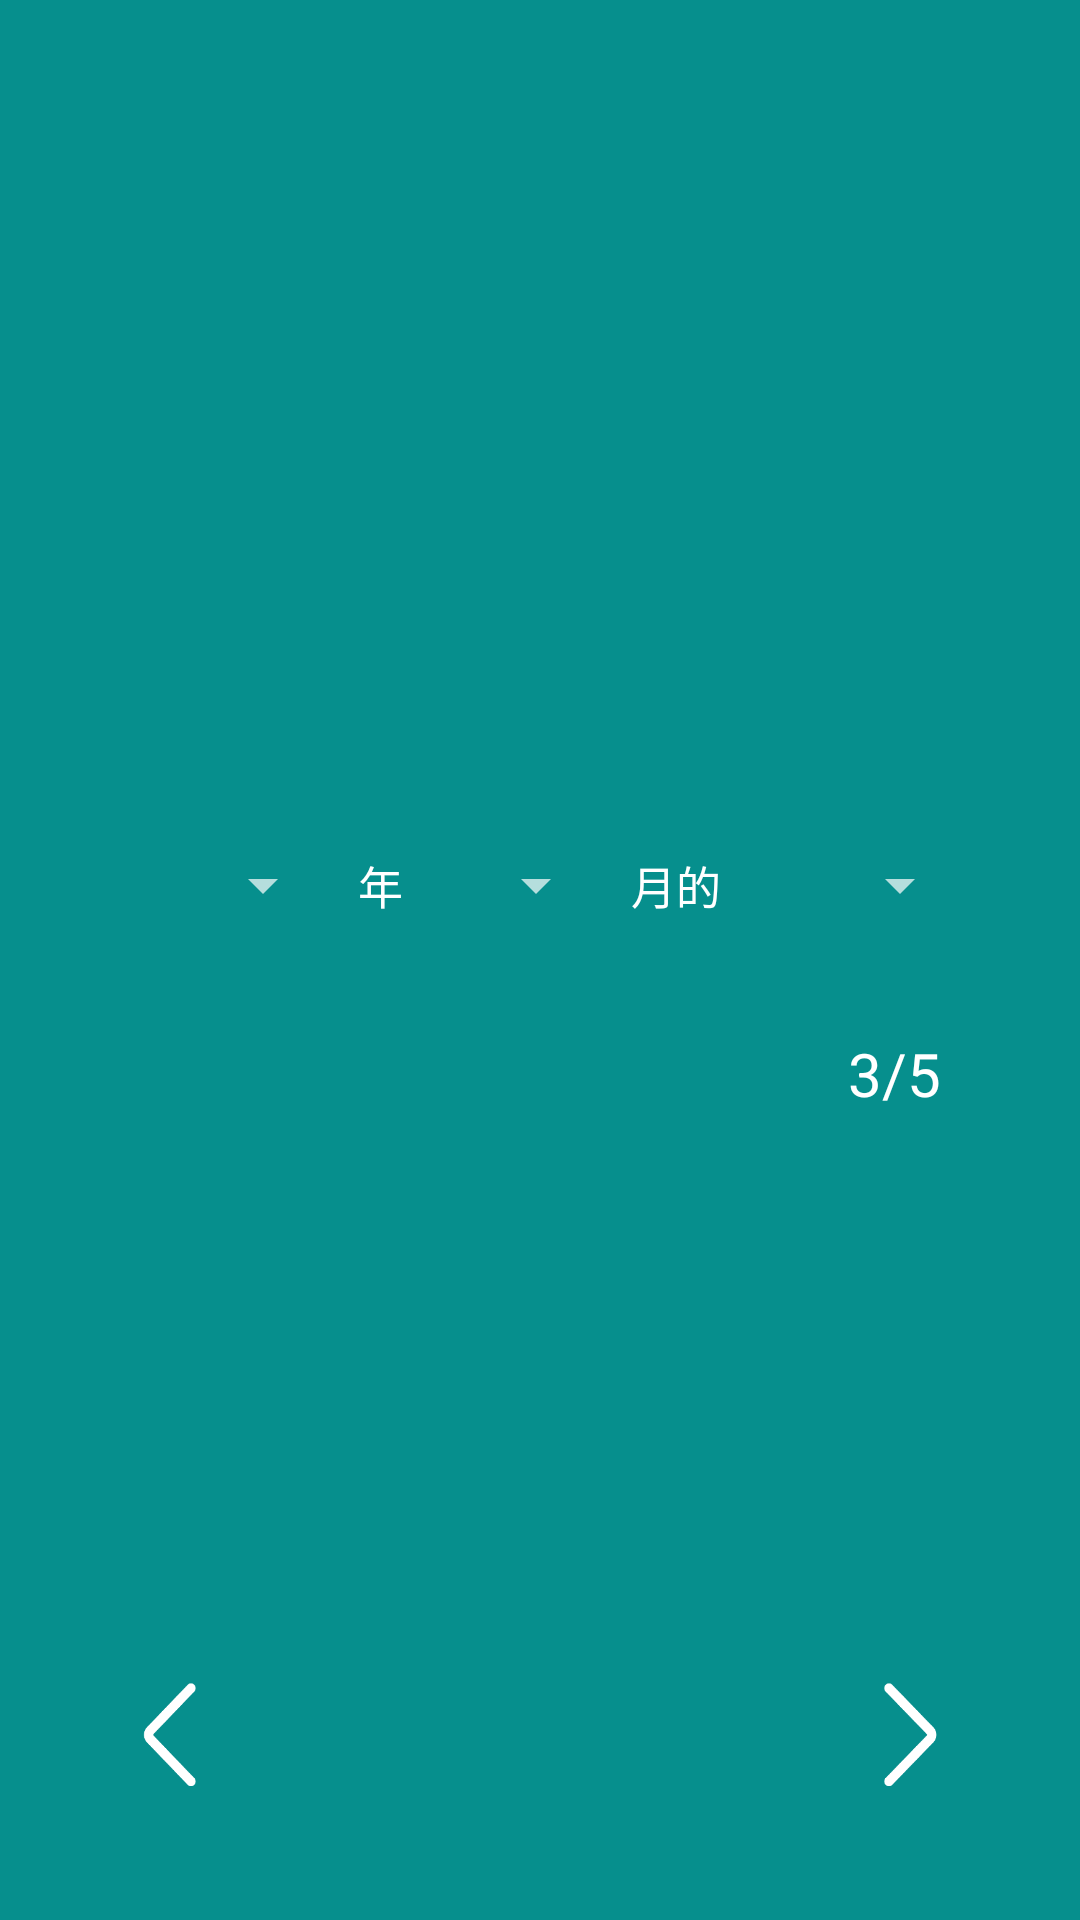

Where icons sit on this 1080px x 1920px app screen, as box=[x1, y1, x2, y2]:
question press left: box=[144, 1683, 196, 1786]
question press right: box=[884, 1683, 937, 1786]
